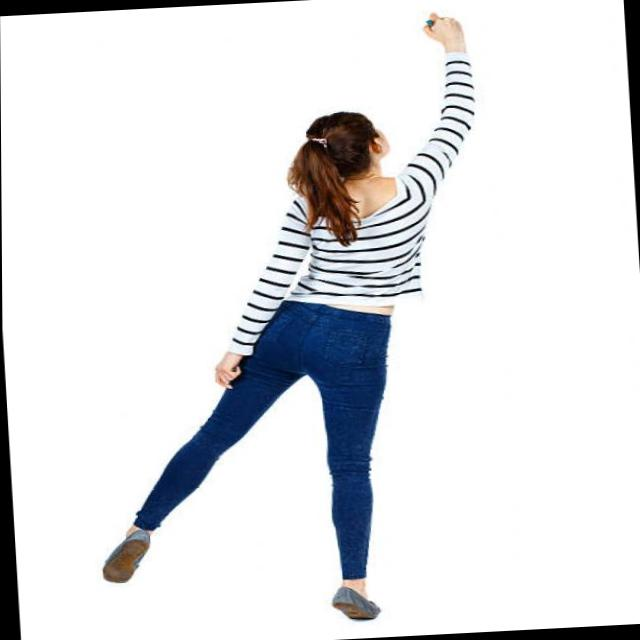no helmet: (266, 104, 422, 226)
